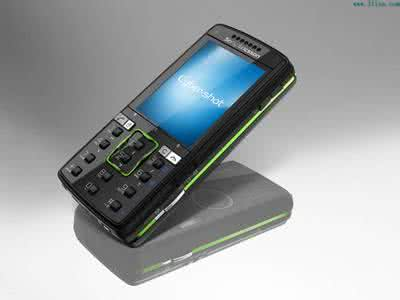phone: (79, 35, 270, 237)
